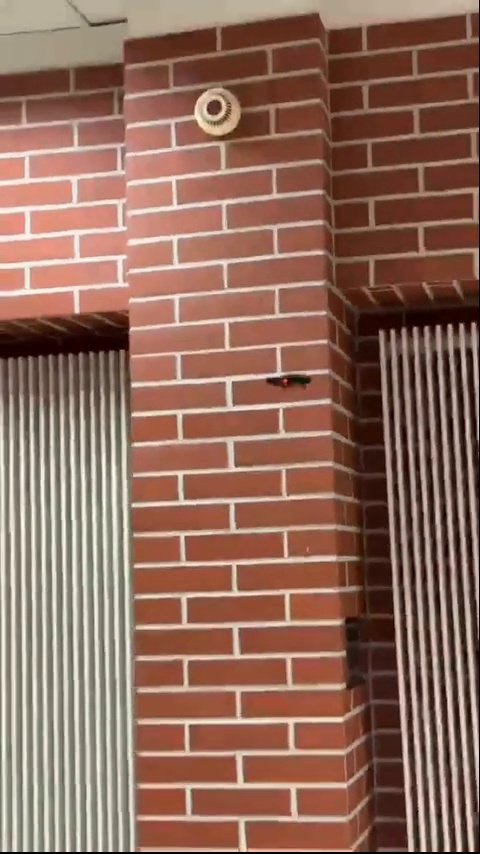drone: (265, 363, 319, 395)
